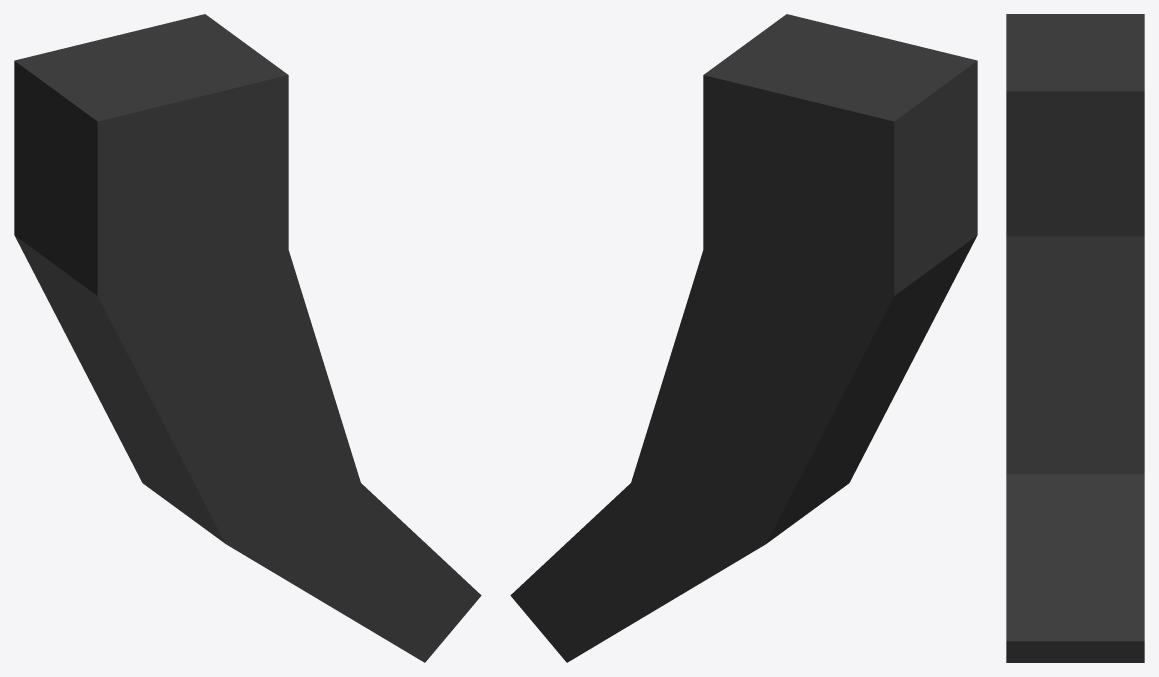
File: Shotgun1_04_4.fbx
3 views of the same model, side by side, from view 1: azimuth 30°, elevation 25°; view 2: azimuth 150°, elevation 25°; view 3: azimuth 270°, elevation 25° (orthographic). The views are drawn at different scales.
Parts seen in each view (by area): view 1: Shotgun1_04_4; view 2: Shotgun1_04_4; view 3: Shotgun1_04_4.
Part boxes in pixels (x1,y1,x2,y2): Shotgun1_04_4: (14,14,481,662); Shotgun1_04_4: (510,14,977,662); Shotgun1_04_4: (1006,14,1144,662).
Size of the model in its own units: 0.0181 by 0.028 by 0.00681.
